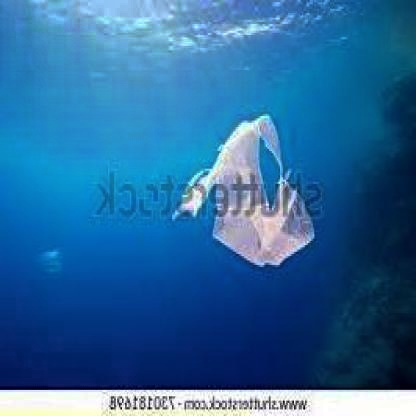pbag: (169, 105, 319, 272)
